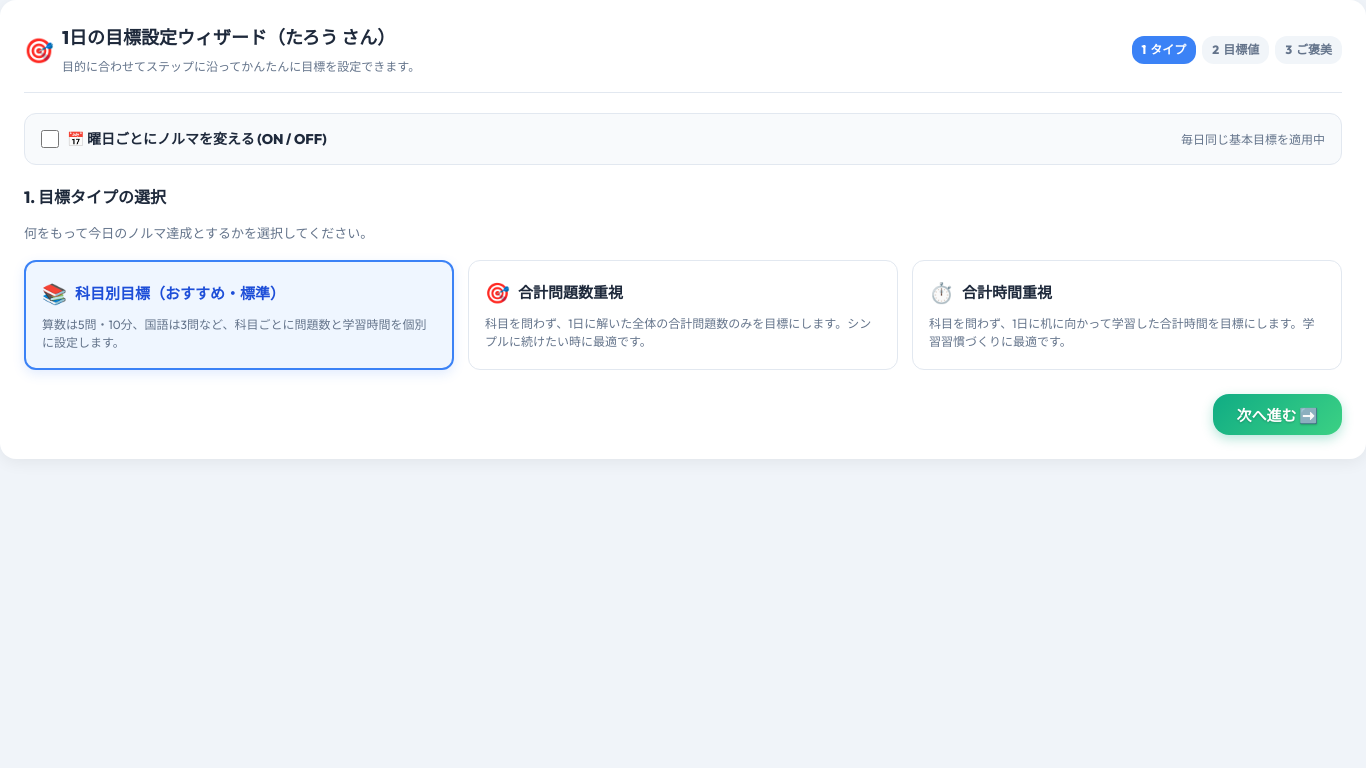
Test case: GoalSettingWizard Component Tests › allows navigating backwards using the もどる button
What coordinates should you click on to do the following:
click the button "次へ進む ➡️"
I would click on:
 (1277, 414)
Its box is left=1212, top=394, right=1342, bottom=435.
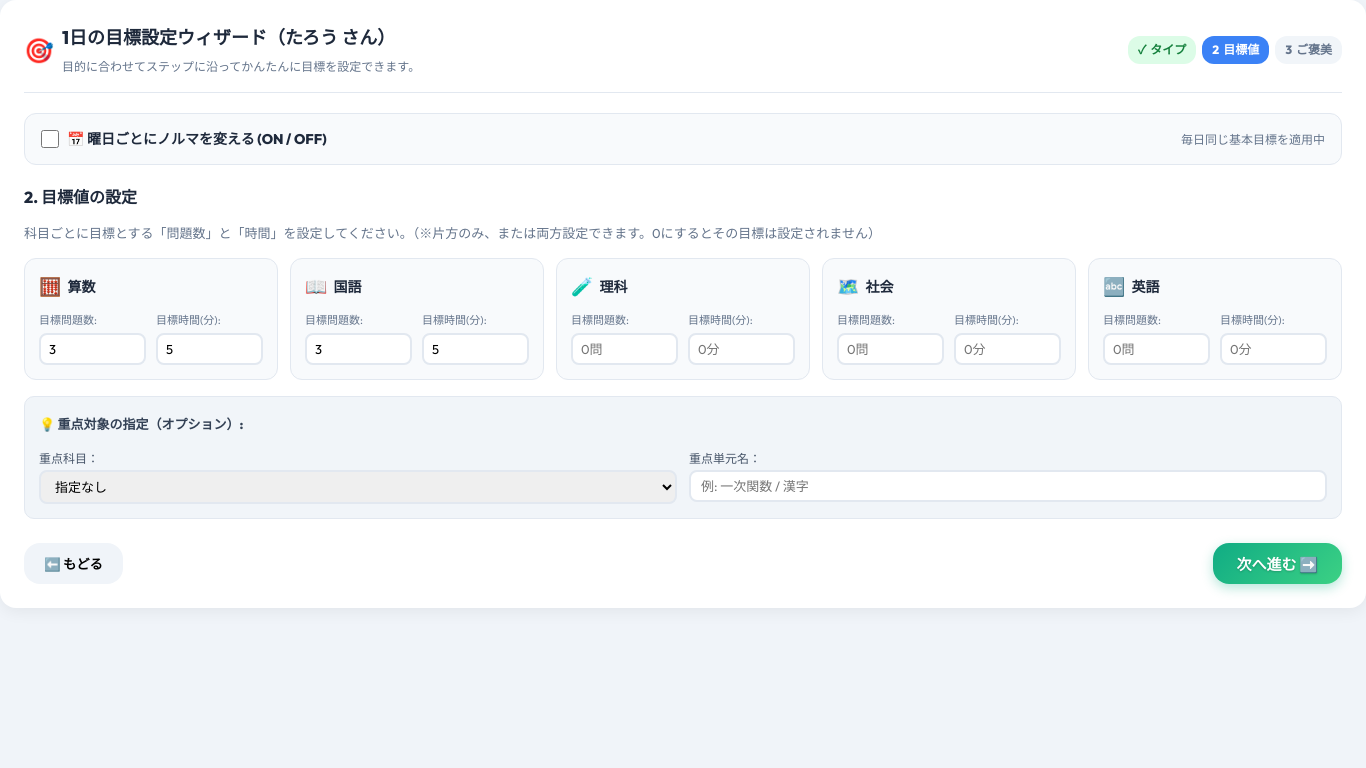
Expected: the heading "2. 目標値の設定" is shown, left=24, top=187, right=137, bottom=207
What coordinates should you click on to do the following:
click the button "⬅️ もどる"
I would click on:
 (73, 564)
Its box is left=24, top=543, right=123, bottom=584.
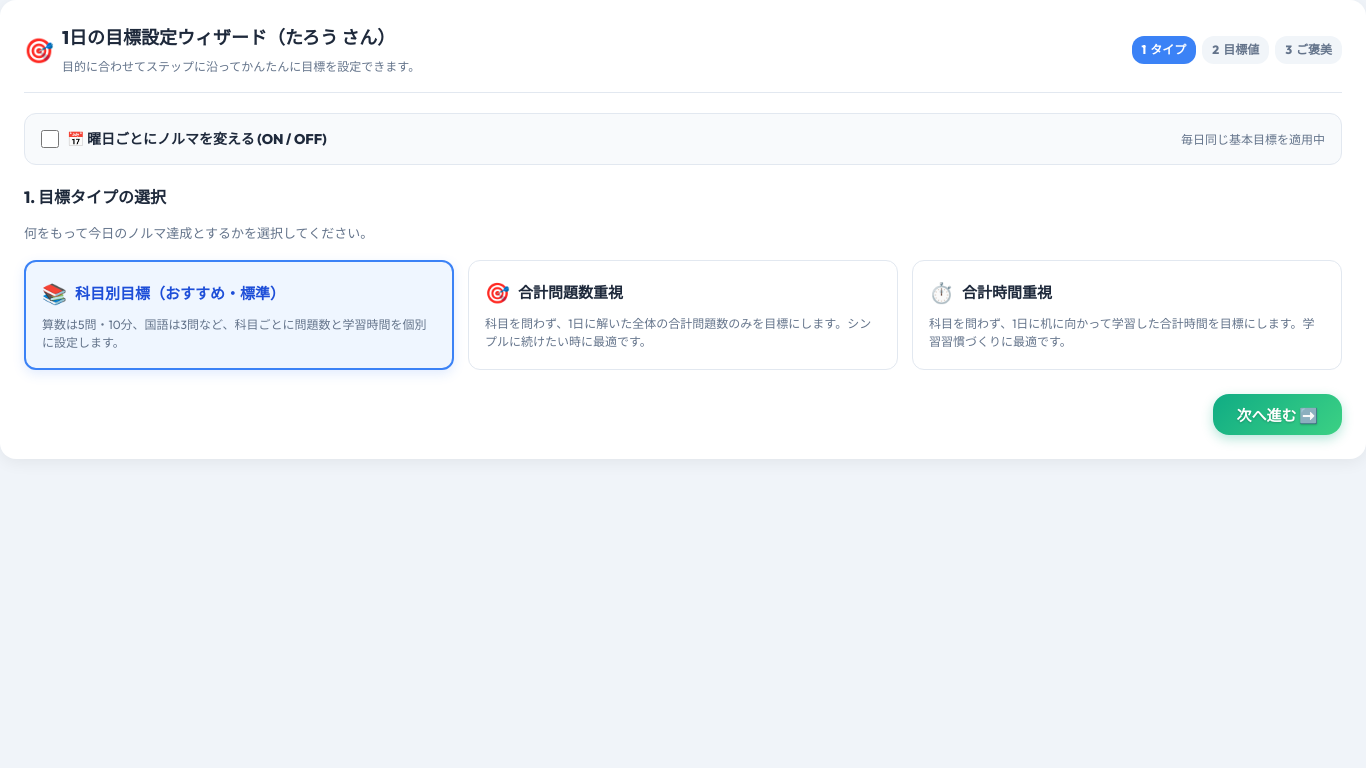
Expected: the heading "1. 目標タイプの選択" is shown, left=24, top=187, right=166, bottom=207
